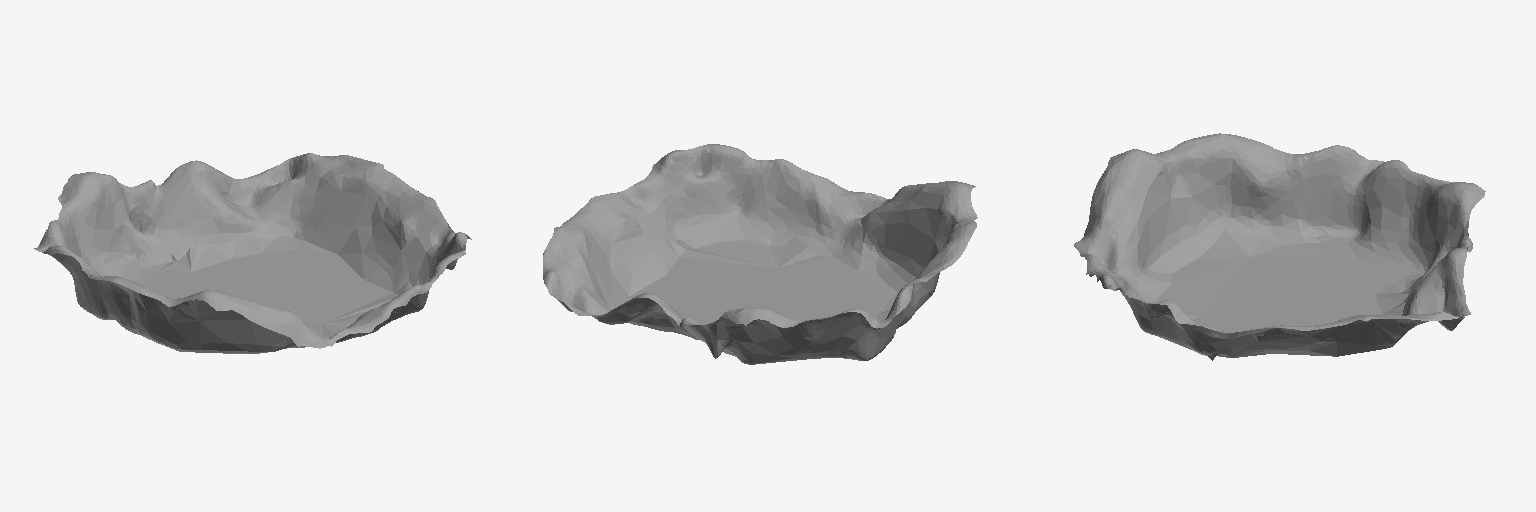
The model's file is terrain.obj.
3 renders of one model, left to right at view 1: azimuth 30°, elevation 25°; view 2: azimuth 150°, elevation 25°; view 3: azimuth 270°, elevation 25°, orthographic.
Parts seen in each view (by area): view 1: Grid_Grid.001; view 2: Grid_Grid.001; view 3: Grid_Grid.001.
Boxes of the visible parts, x1,y1,x2,y2 form: Grid_Grid.001: [34, 153, 471, 353]; Grid_Grid.001: [543, 144, 977, 364]; Grid_Grid.001: [1074, 133, 1485, 360].
Size of the model in its own units: 86.68 by 21.92 by 87.41.